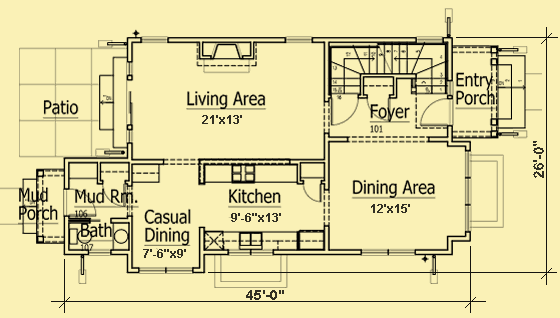door: (329, 91, 359, 127), (419, 96, 453, 127), (64, 187, 96, 219), (300, 177, 324, 203)
large sink: (67, 229, 94, 249)
small sink: (112, 223, 131, 251)
stairs: (321, 37, 449, 100)
windows: (461, 148, 474, 235), (135, 262, 197, 278), (358, 247, 421, 259), (226, 246, 276, 258), (415, 34, 447, 47), (137, 34, 170, 46), (281, 35, 316, 45)
